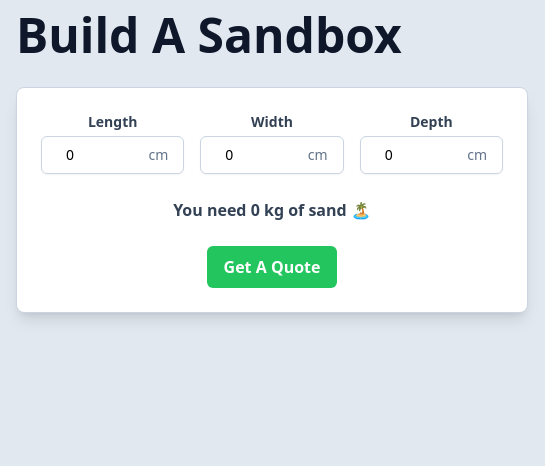
Test case: Quote calculation › should display a proper quote once the form is filled and submited
This screenshot has width=545, height=466.
In the number field labelled "Length": [113, 155] box [41,136,184,174], type "10"
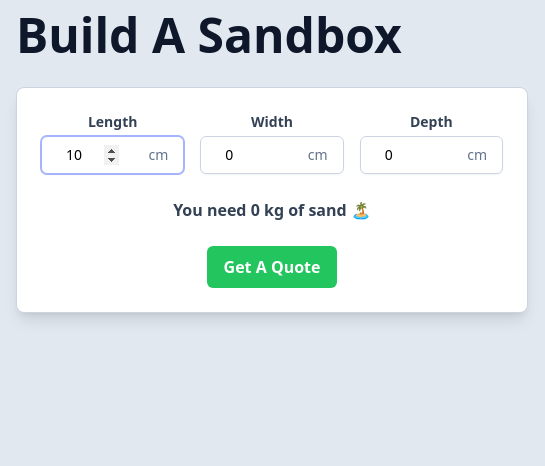
In the number field labelled "Width": [272, 155] box [200,136,344,174], type "10"
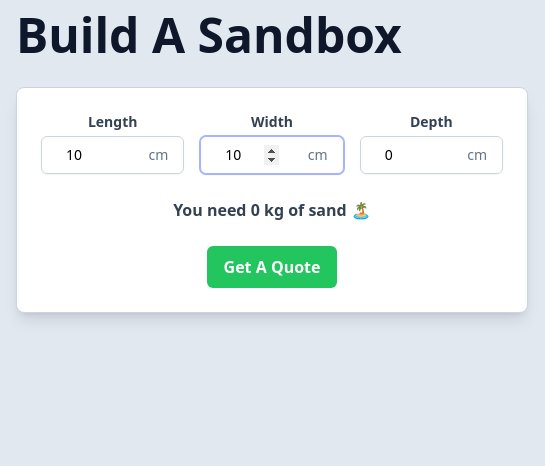
In the number field labelled "Depth": [431, 155] box [360,136,503,174], type "10"
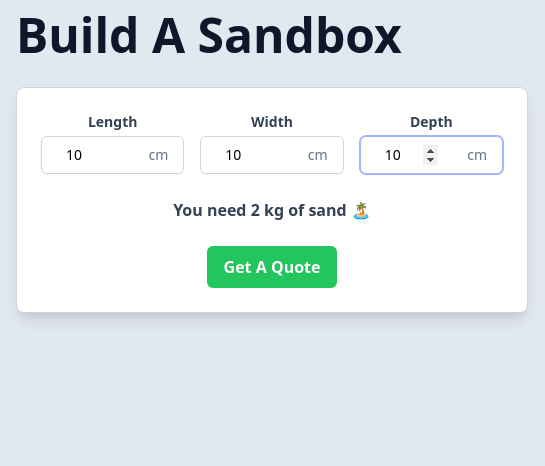
Click the button: [272, 267] box [206,246,337,288]
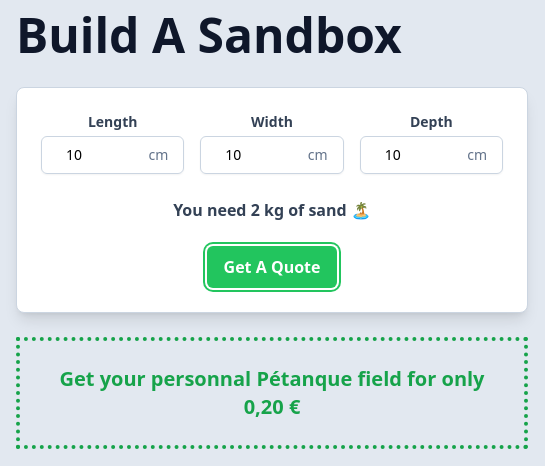
expect the text "Get your personnal Pétanque field for only 0,20 €" is shown: met, box [16,337,528,449]
